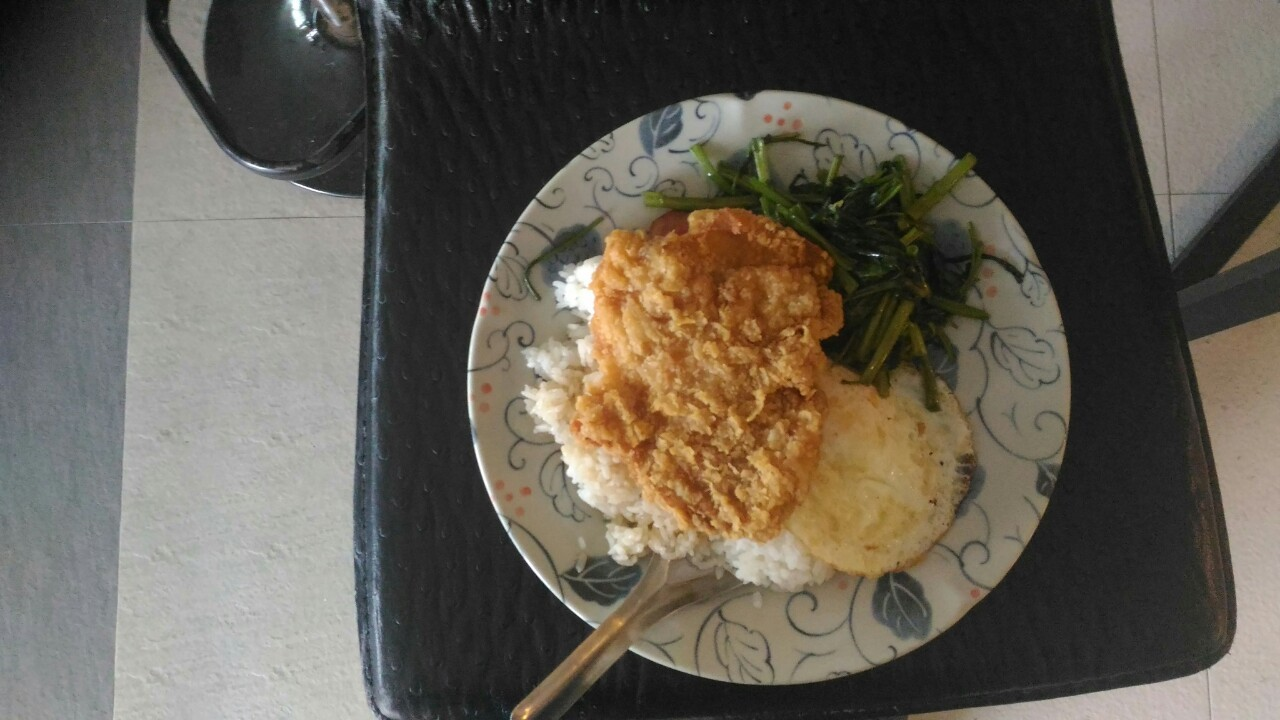fried_chicken: (572, 202, 836, 546)
fried_eggs: (796, 358, 981, 576)
rice: (554, 443, 664, 572)
water_spinach: (815, 171, 986, 351)
